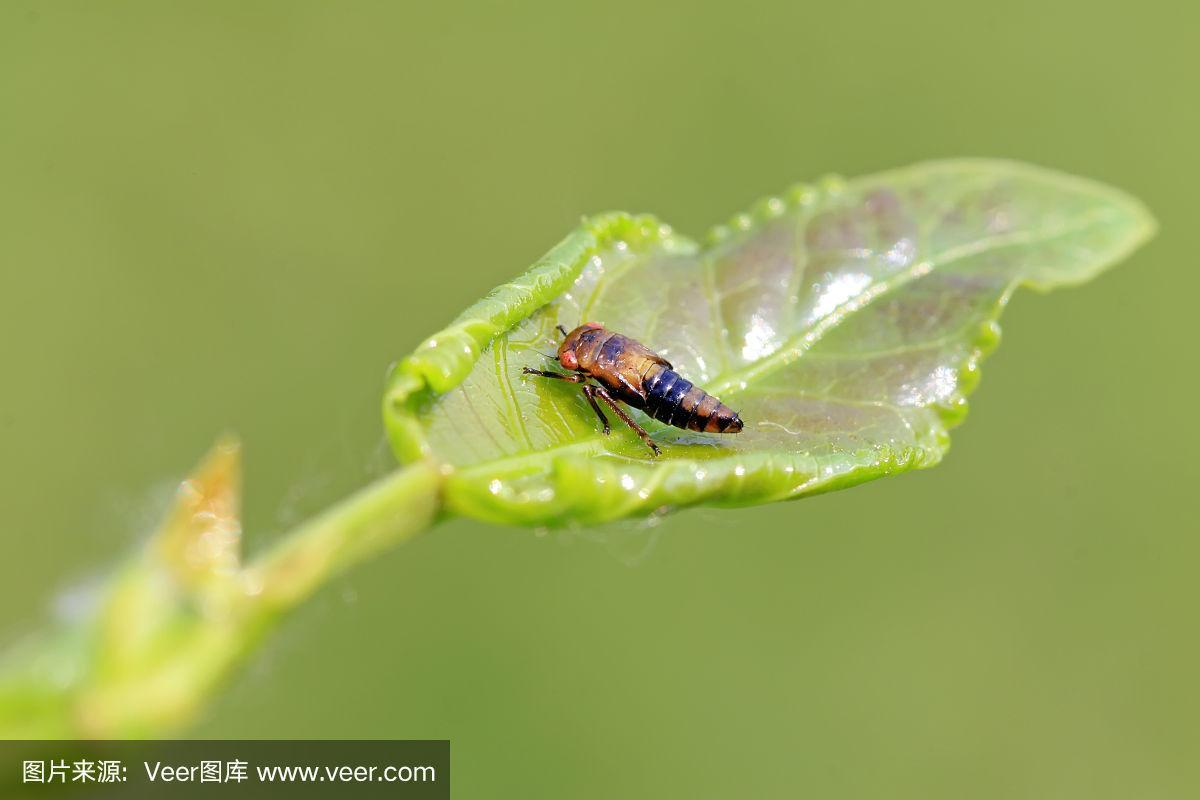Cicadellidae: (521, 320, 745, 451)
